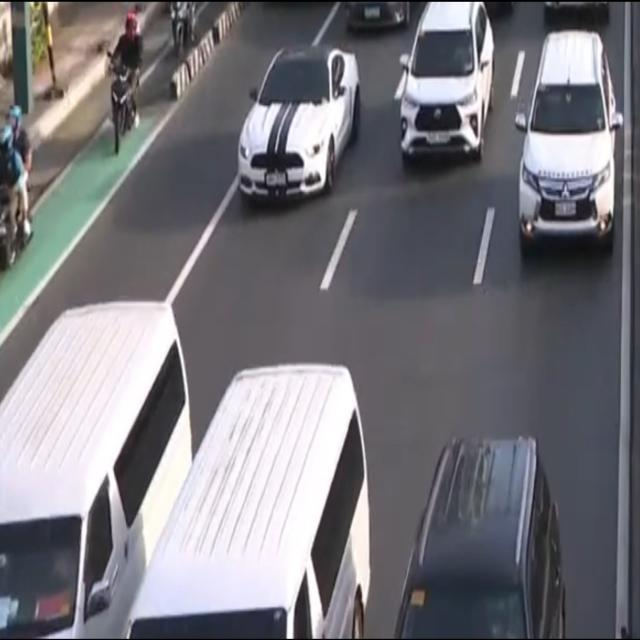Motorcycle: (98, 13, 152, 159), (0, 100, 44, 273), (165, 0, 206, 59)
SUV: (385, 428, 590, 640), (509, 25, 626, 274), (383, 0, 506, 178)
Sedan: (230, 40, 367, 219)
Van: (124, 354, 376, 640), (0, 283, 190, 640)
